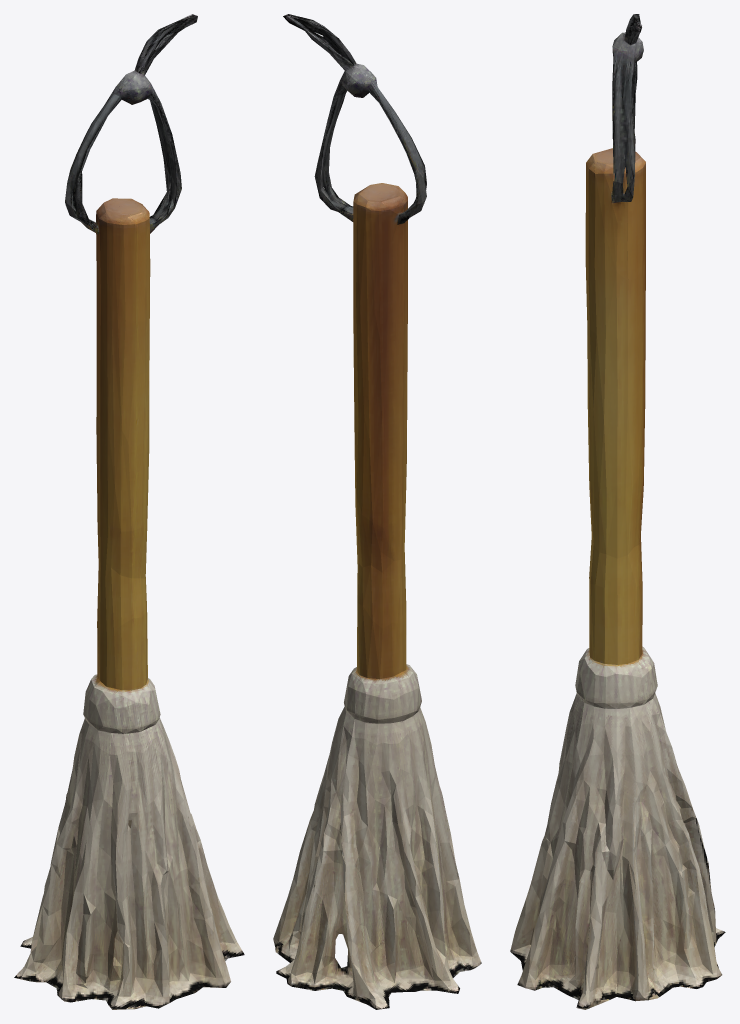
The model's file is Mop-Style Brushes.glb.
3 views of the same model, side by side, from view 1: azimuth 30°, elevation 25°; view 2: azimuth 150°, elevation 25°; view 3: azimuth 270°, elevation 25° (orthographic). The views are drawn at different scales.
Visible parts, largest first — view 1: world; view 2: world; view 3: world.
Boxes of the visible parts, x1,y1,x2,y2 form: world: (14,14,244,1009); world: (273,14,481,1009); world: (510,14,725,1009).
Size of the model in its own units: 0.2239 by 1 by 0.2008.
Materials: 1 (1 with a texture image).
